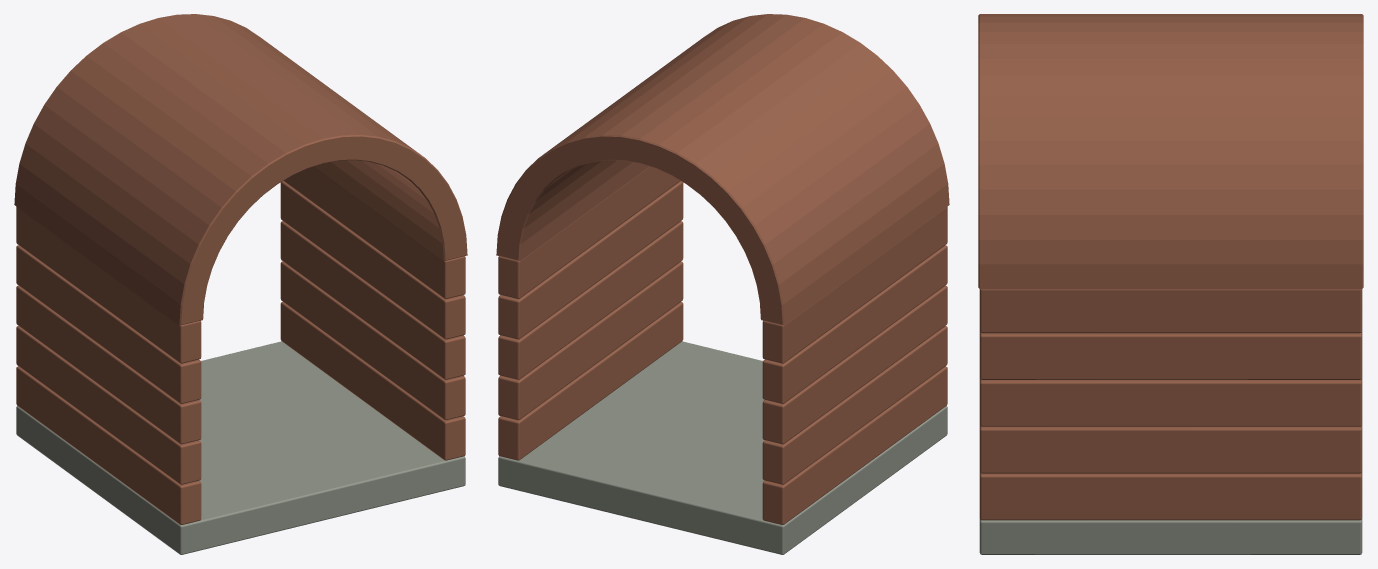
The model's file is undercity-sewers-and-thieves-den-dry-passage-short-de3ab330__25033.glb.
3 views of the same model, side by side, from view 1: azimuth 30°, elevation 25°; view 2: azimuth 150°, elevation 25°; view 3: azimuth 270°, elevation 25° (orthographic). The views are drawn at different scales.
Visible parts, largest first — view 1: dry-passage-short; view 2: dry-passage-short; view 3: dry-passage-short.
Boxes of the visible parts, left/top/right/bottom form: dry-passage-short: left=14, top=14, right=467, bottom=554; dry-passage-short: left=496, top=14, right=949, bottom=554; dry-passage-short: left=978, top=14, right=1363, bottom=554.
Size of the model in its own units: 2.02 by 2.56 by 2.02.
